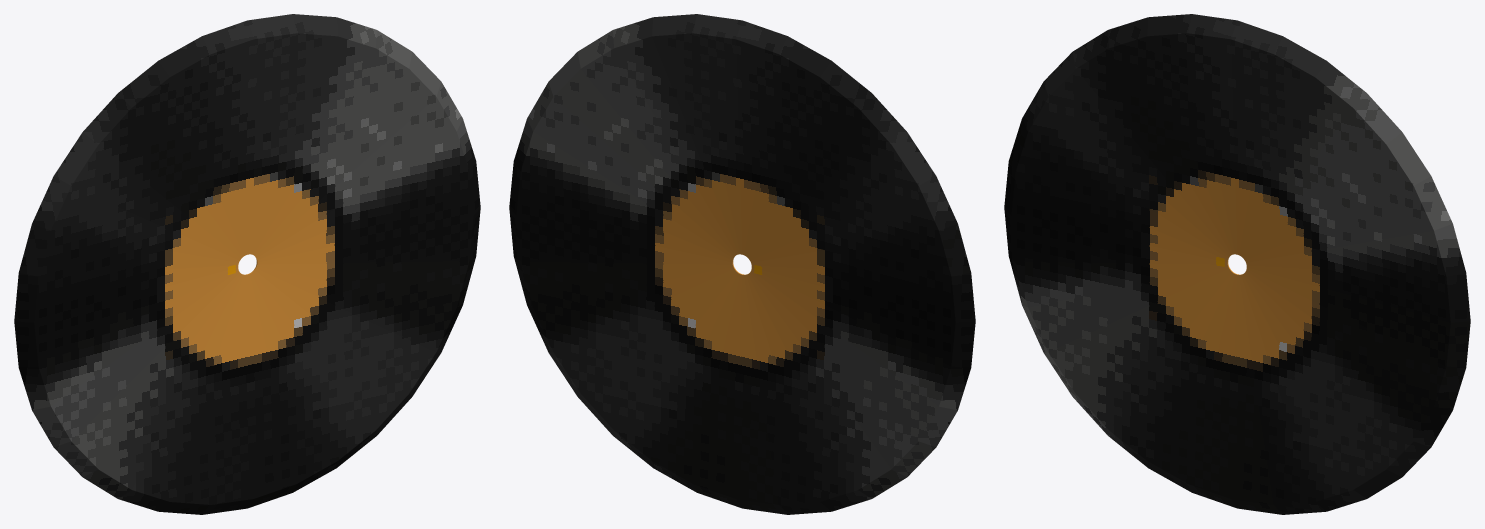
The model's file is Record_Orange.glb.
3 renders of one model, left to right at view 1: azimuth 30°, elevation 25°; view 2: azimuth 150°, elevation 25°; view 3: azimuth 330°, elevation 25°, orthographic.
Parts seen in each view (by area): view 1: Cylinder.002; view 2: Cylinder.002; view 3: Cylinder.002.
Boxes of the visible parts, x1=… form: Cylinder.002: x1=14, y1=14, x2=480, y2=514; Cylinder.002: x1=509, y1=14, x2=975, y2=514; Cylinder.002: x1=1004, y1=14, x2=1470, y2=514.
Size of the model in its own units: 2.12 by 2.12 by 0.1009.
Materials: 1 (1 with a texture image).
